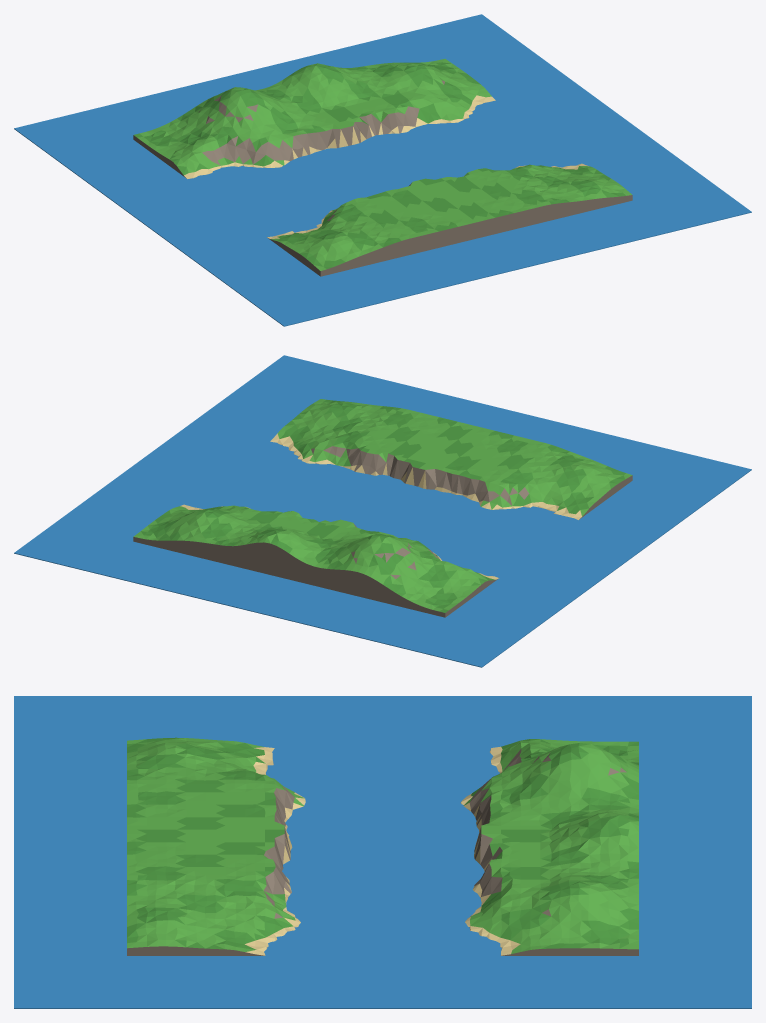
File: Level1_Terrain.glb
3 renders of one model, top to bottom at view 1: azimuth 30°, elevation 25°; view 2: azimuth 150°, elevation 25°; view 3: azimuth 270°, elevation 25°, orthographic. The views are drawn at different scales.
Parts seen in each view (by area): view 1: Level1_Terrain_Water, Level1_Terrain_Land; view 2: Level1_Terrain_Water, Level1_Terrain_Land; view 3: Level1_Terrain_Water, Level1_Terrain_Land.
Part boxes in pixels (x1,y1,x2,y2): Level1_Terrain_Water: [14, 14, 751, 326]; Level1_Terrain_Land: [133, 59, 632, 276]; Level1_Terrain_Water: [14, 355, 751, 667]; Level1_Terrain_Land: [133, 399, 632, 617]; Level1_Terrain_Water: [14, 696, 751, 1008]; Level1_Terrain_Land: [127, 737, 638, 955].
Bounding box in the file's own units: 420 × 45.78 × 420.
Materials: 1 (1 with a texture image).
